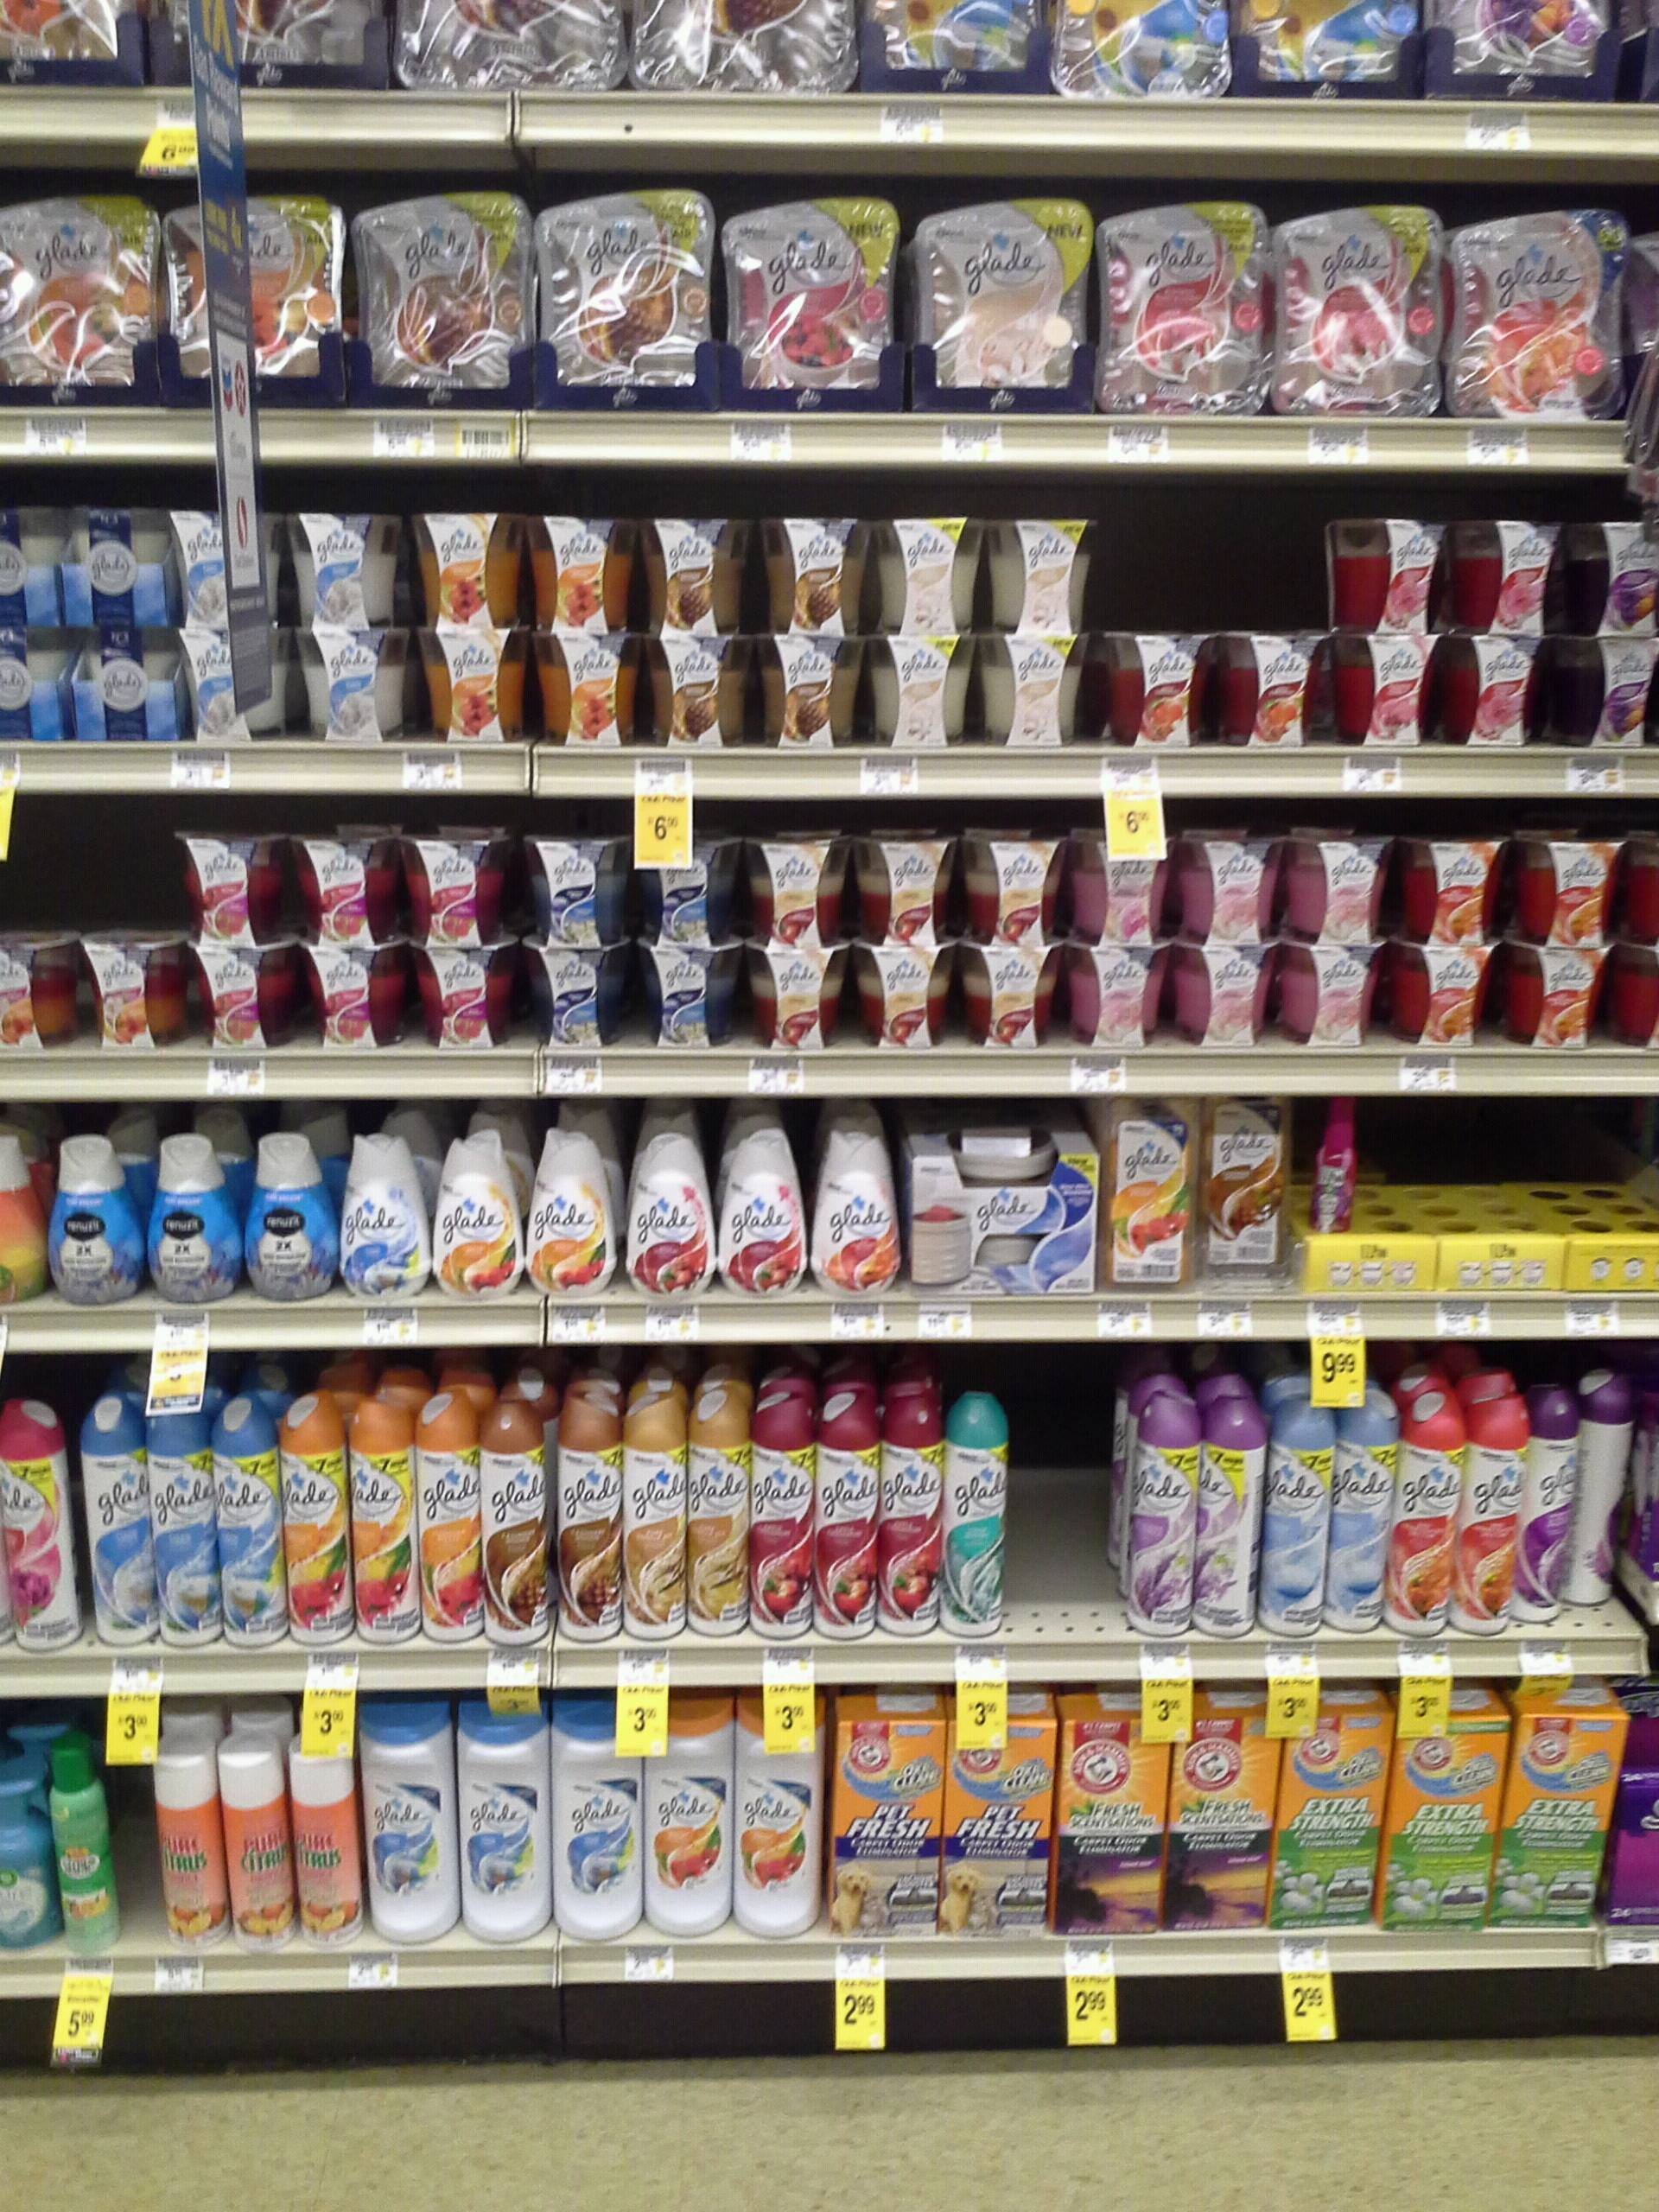Out-of-stock: (1002, 1338, 1129, 1644)
